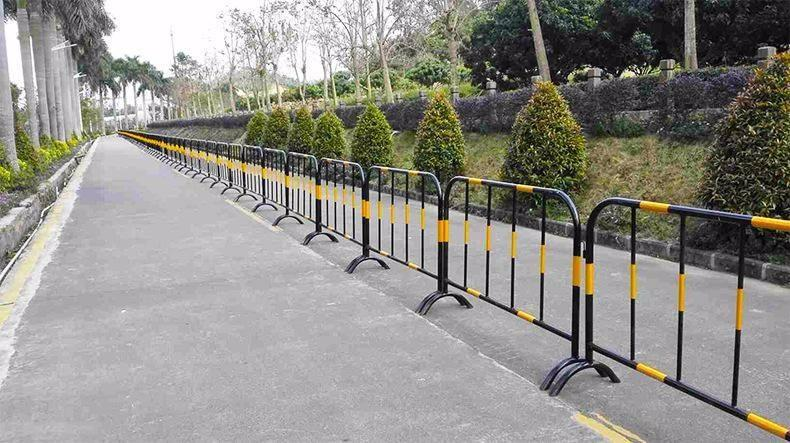sign: (488, 164, 790, 432), (274, 148, 465, 318)
